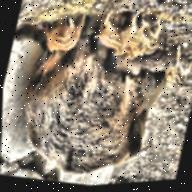boar: (6, 1, 178, 192)
